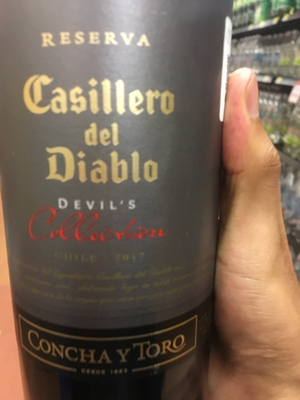casillero del diablo devils collection rojo: (1, 2, 220, 400)
